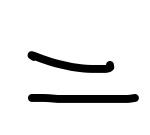eqv: (26, 50, 139, 105)
